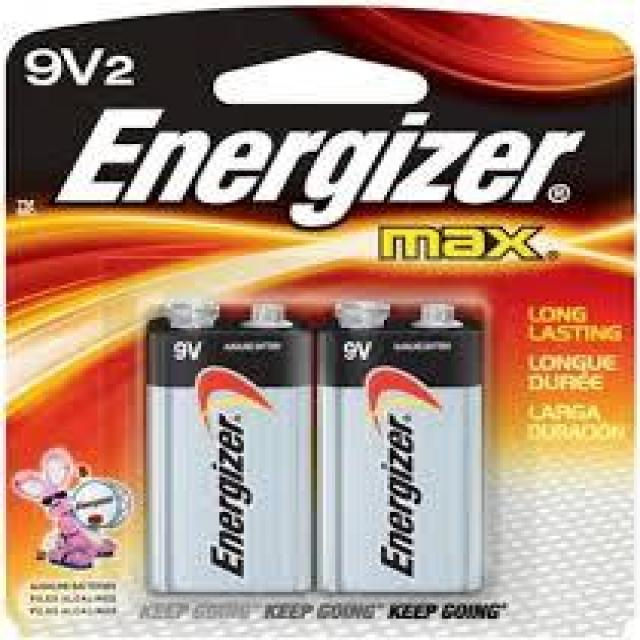9V: (132, 292, 322, 599), (311, 295, 494, 596)
